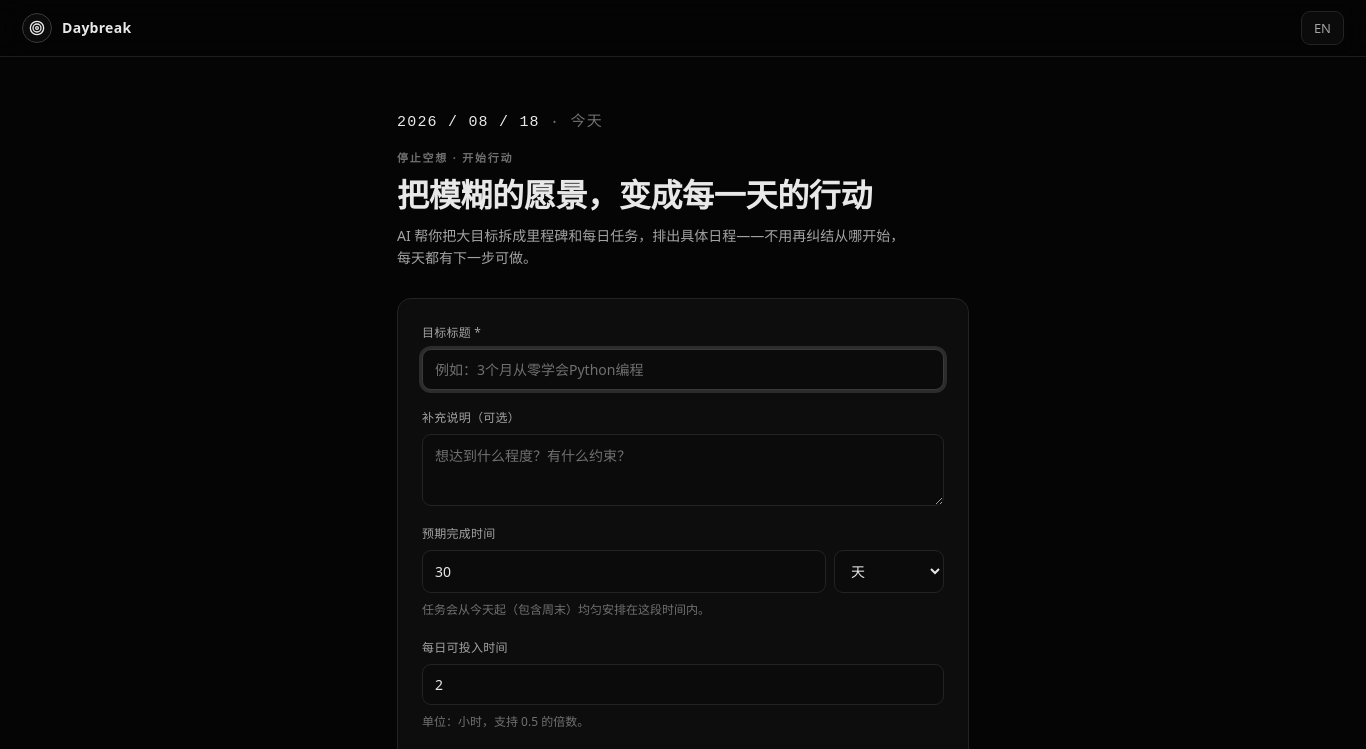
GoalInput language switching › toggles the whole page between Chinese and English from the top bar
Expected: the heading "把模糊的愿景，变成每一天的行动" is shown, [397, 178, 872, 214]
Expected: the field labelled "目标标题 *" is shown, [422, 349, 944, 390]
Click the button with aria-label "English": [1322, 28] box [1301, 11, 1344, 45]
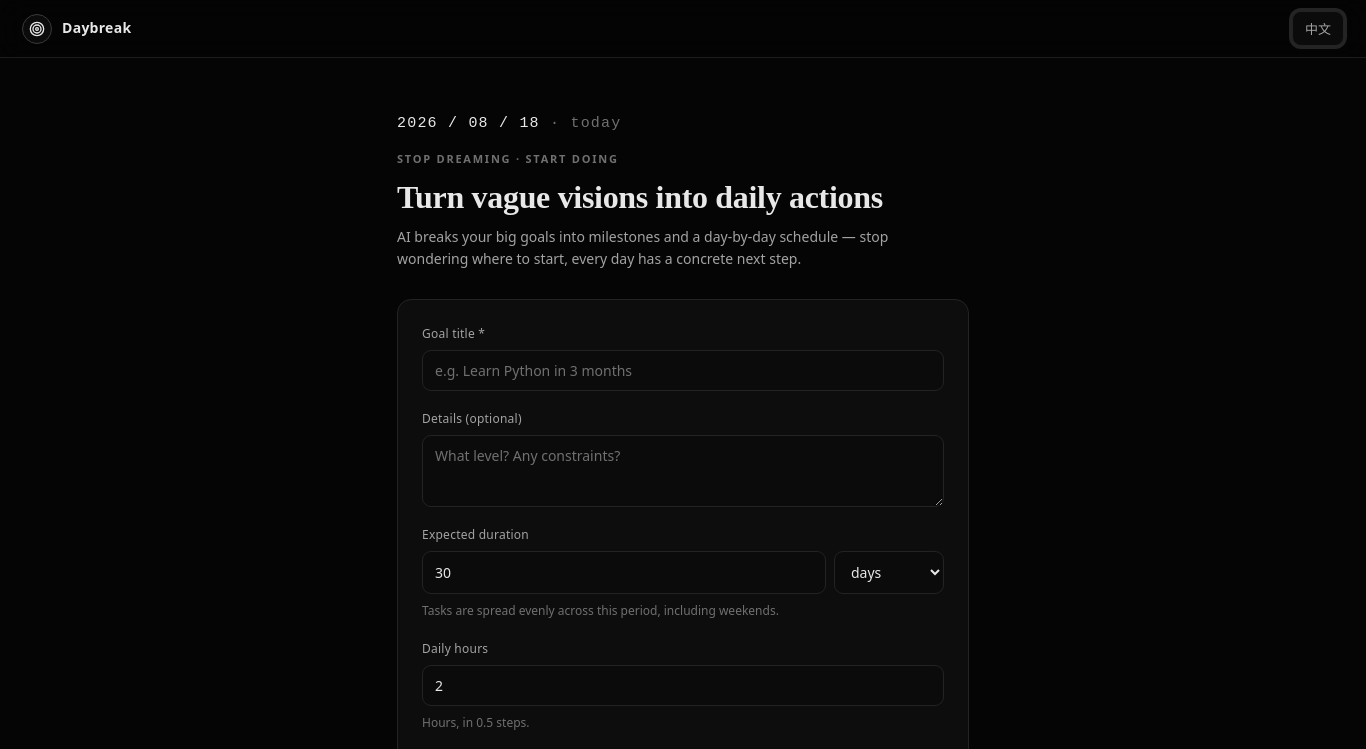
Expected: the field labelled "Goal title *" is shown, [422, 350, 944, 391]
Now the heading "Turn vague visions into daily actions" is shown, box [397, 179, 883, 215]
Click the button "中文": [1318, 28] box [1292, 11, 1344, 46]
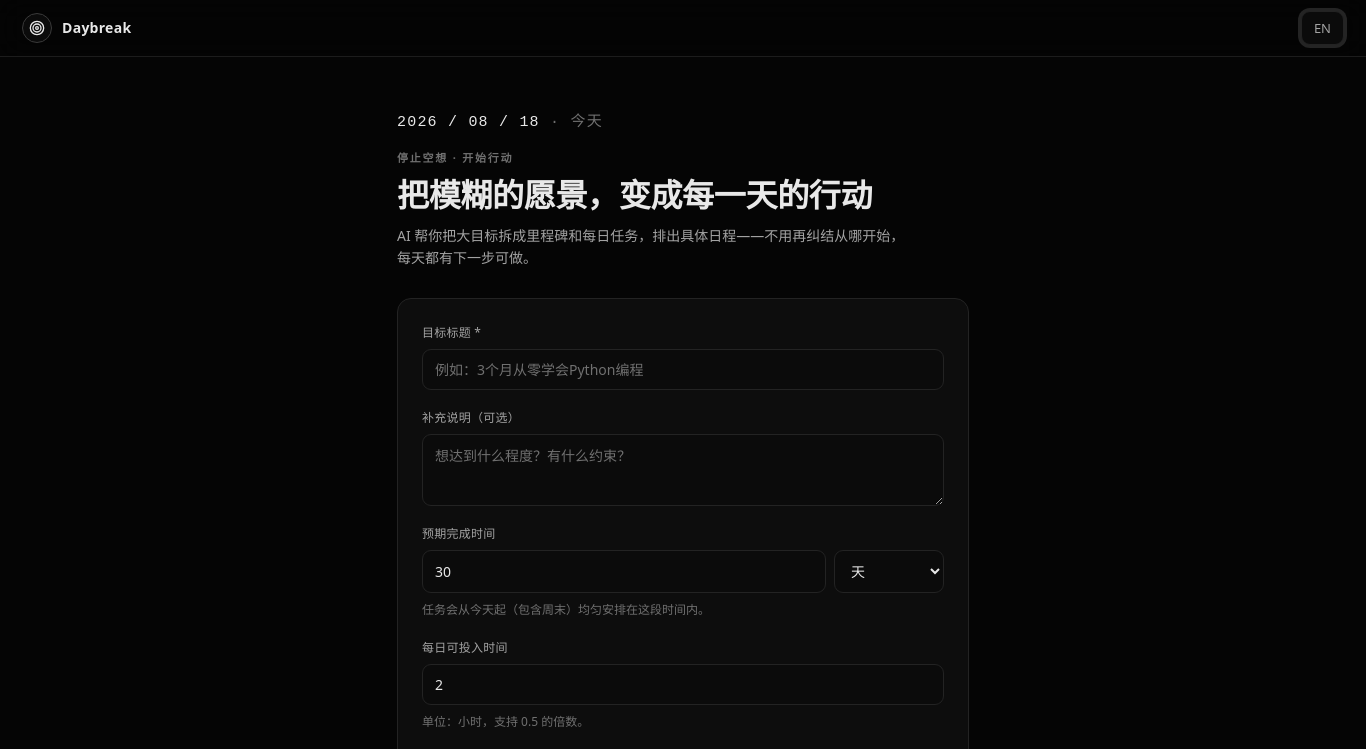
Now the heading "把模糊的愿景，变成每一天的行动" is shown, box [397, 178, 872, 214]
